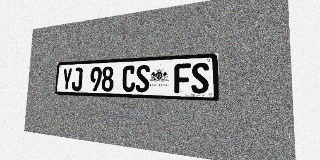8: (101, 66, 114, 91)
9: (90, 67, 102, 91)
C: (122, 65, 136, 92)
F: (174, 63, 191, 93)
J: (71, 67, 83, 91)
S: (191, 62, 209, 94), (135, 65, 150, 92)
Y: (61, 68, 72, 91)
